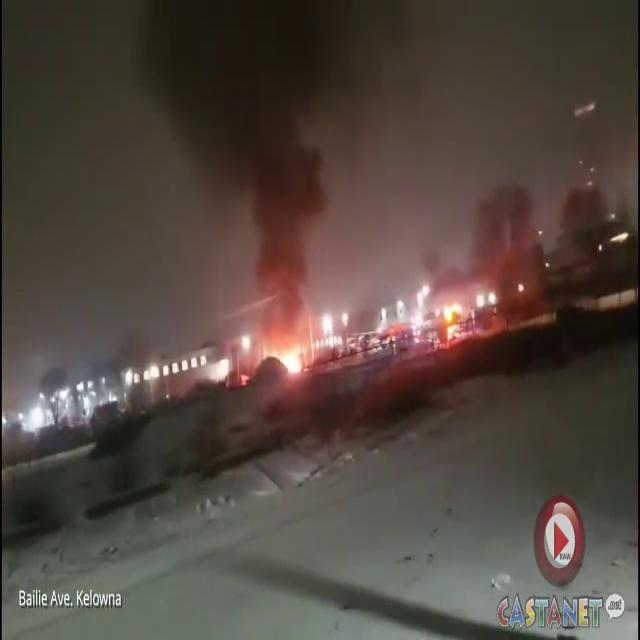Fire: (236, 320, 322, 384)
Smoke: (301, 0, 640, 293), (2, 36, 280, 344)
